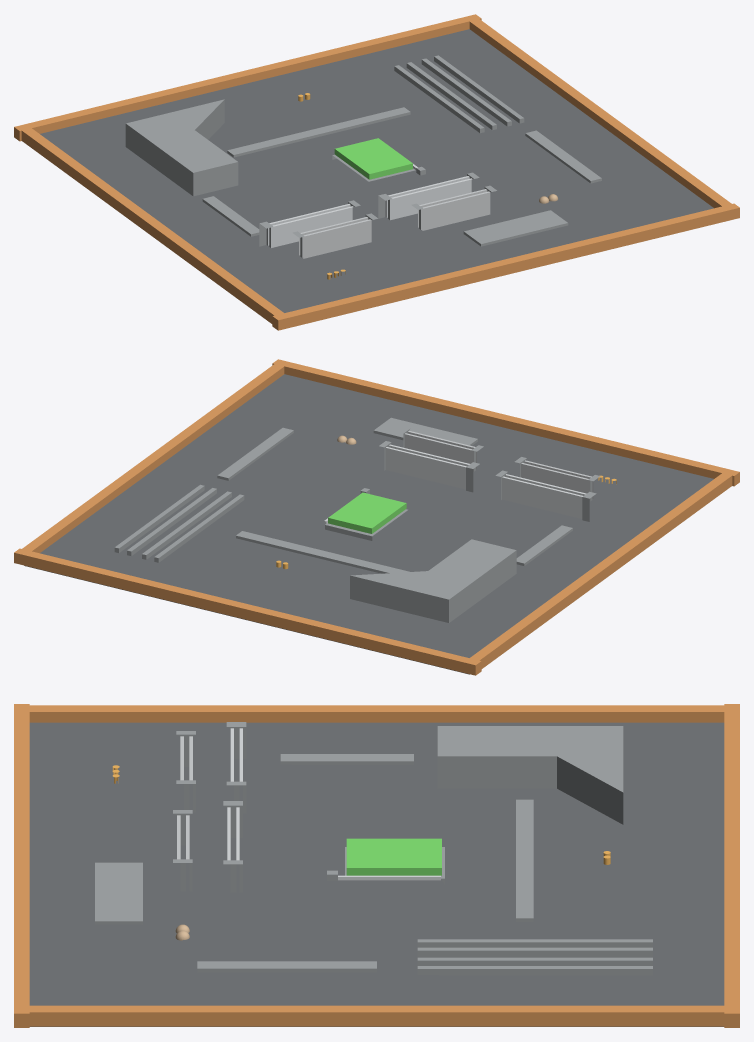
File: Motherboard.glb
3 renders of one model, top to bottom at view 1: azimuth 30°, elevation 25°; view 2: azimuth 150°, elevation 25°; view 3: azimuth 270°, elevation 25°, orthographic. The views are drawn at different scales.
Visible parts, largest first — view 1: Cube.002; view 2: Cube.002; view 3: Cube.002.
Part boxes in pixels (bbox=[...]): Cube.002: bbox=[14, 14, 739, 330]; Cube.002: bbox=[14, 359, 739, 675]; Cube.002: bbox=[14, 704, 739, 1027].
Size of the model in its own units: 171 by 11.65 by 169.
